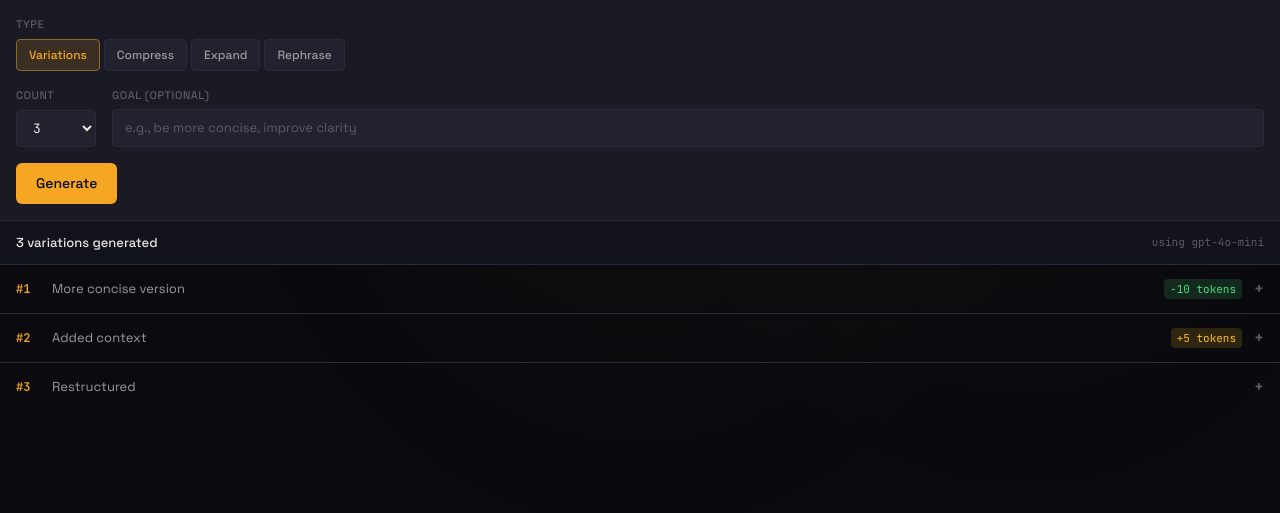
GeneratePanel › expands variation on click
// Click first variation header
Click the text "More concise version": (118, 289) [52,280,185,297]
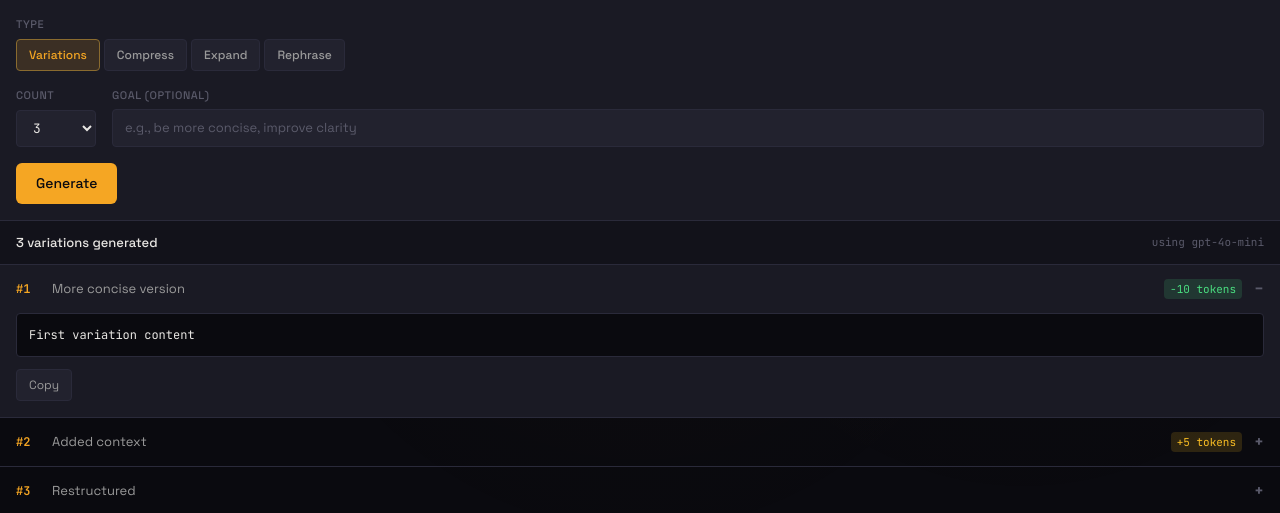
Expected: the text "First variation content" is shown, [16,313,1264,357]
Expected: the button "Copy" is shown, [16,369,72,401]
